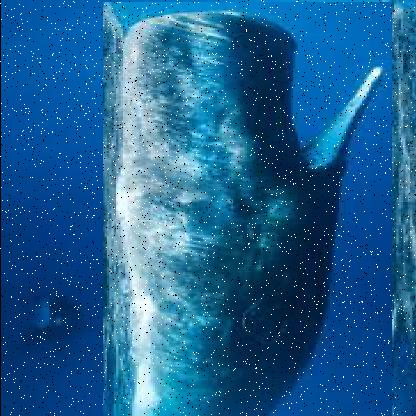sperm_whale: (101, 1, 392, 415)
